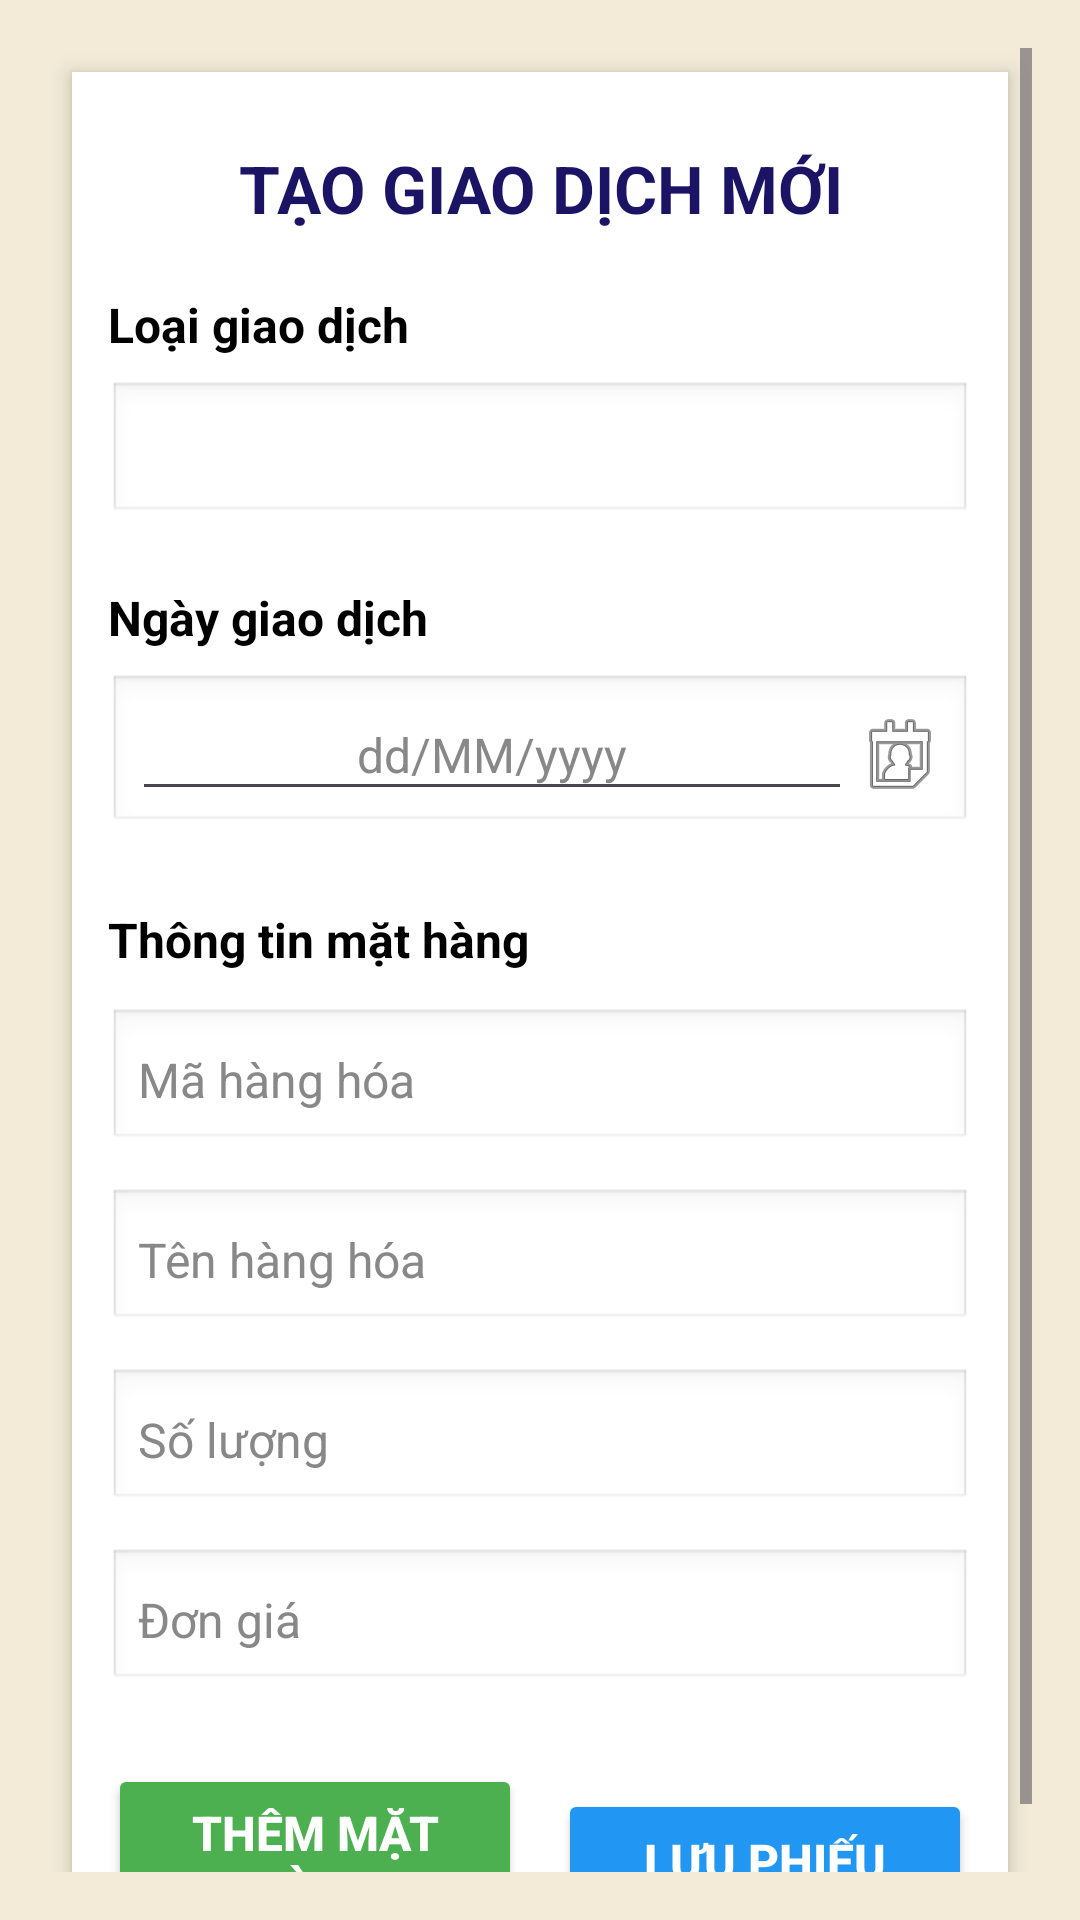

Point at icon controls on the screen. Image size 1080x1920, points as (x=x, y=y).
Chọn ngày: (x=900, y=754)
